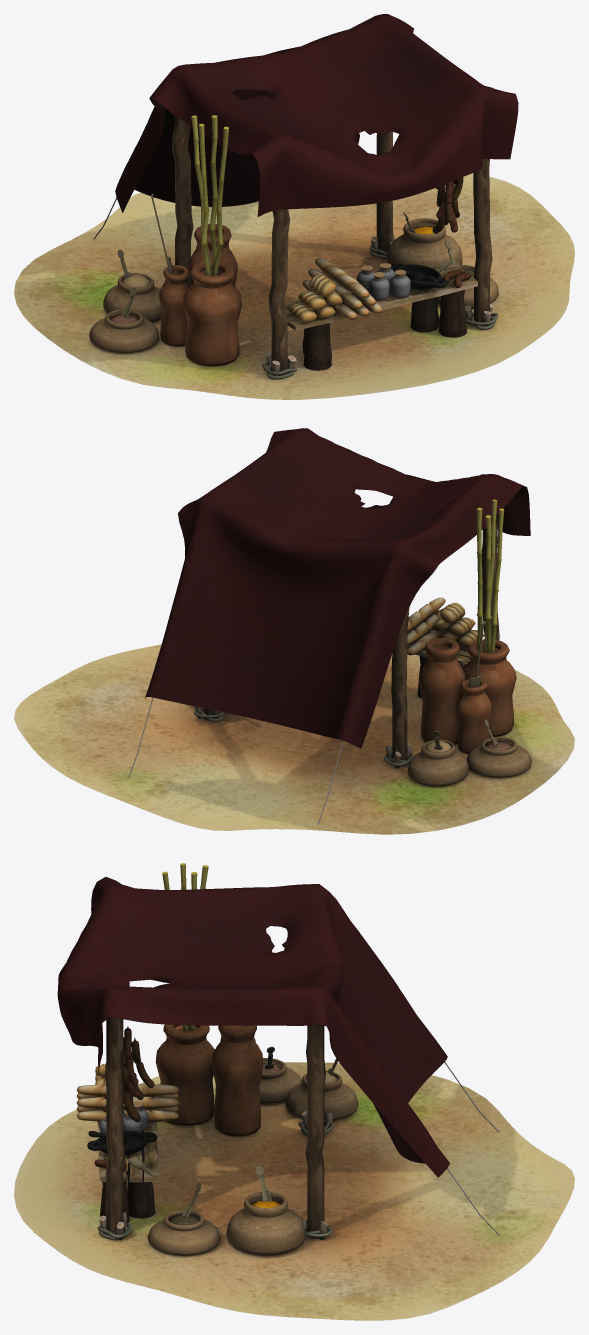
Rendered from puesto.glb.
The picture shows the model from 3 angles, top to bottom: view 1: azimuth 30°, elevation 25°; view 2: azimuth 150°, elevation 25°; view 3: azimuth 270°, elevation 25°; orthographic projection. The views are drawn at different scales.
Parts seen in each view (by area): view 1: Object001_Object001_mtl_0; view 2: Object001_Object001_mtl_0; view 3: Object001_Object001_mtl_0.
Boxes of the visible parts, <box> form: Object001_Object001_mtl_0: <box>14,14,574,399</box>; Object001_Object001_mtl_0: <box>14,428,574,834</box>; Object001_Object001_mtl_0: <box>14,863,574,1320</box>.
Size of the model in its own units: 121 by 53.64 by 111.
1 material, 1 textured.
